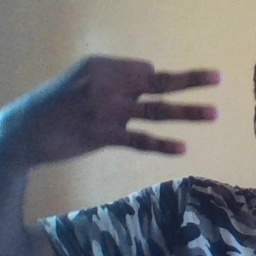K: (27, 54, 227, 165)
